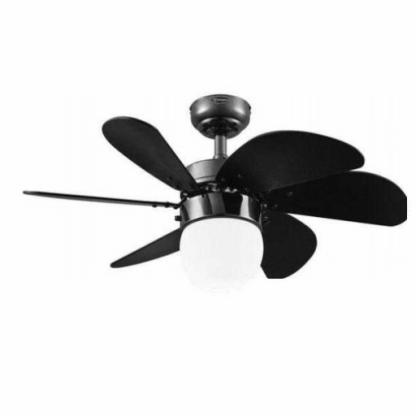ceiling-fan: (21, 94, 408, 280)
